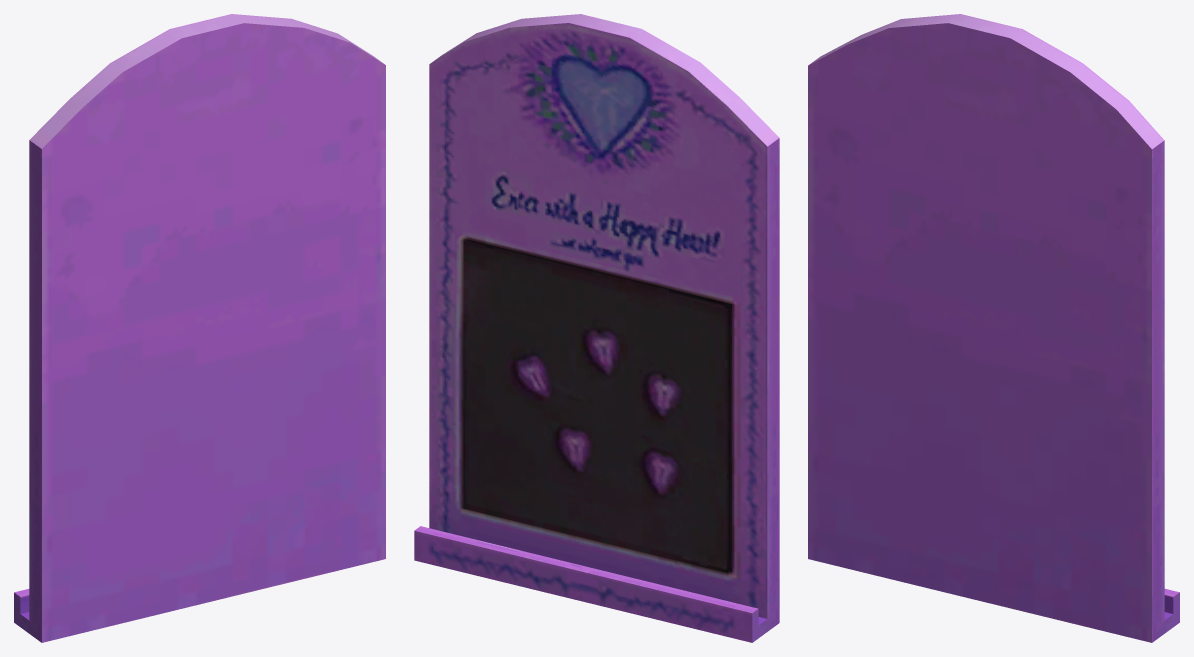
Rendered from furni_0200142_01.FBX.
3 renders of one model, left to right at view 1: azimuth 30°, elevation 25°; view 2: azimuth 150°, elevation 25°; view 3: azimuth 330°, elevation 25°, orthographic.
Parts seen in each view (by area): view 1: furni_0200142_01; view 2: furni_0200142_01; view 3: furni_0200142_01.
Part boxes in pixels (x1,y1,x2,y2): furni_0200142_01: (14, 14, 385, 642); furni_0200142_01: (414, 14, 779, 642); furni_0200142_01: (808, 14, 1179, 642).
Size of the model in its own units: 47.9 by 75.89 by 6.7.
